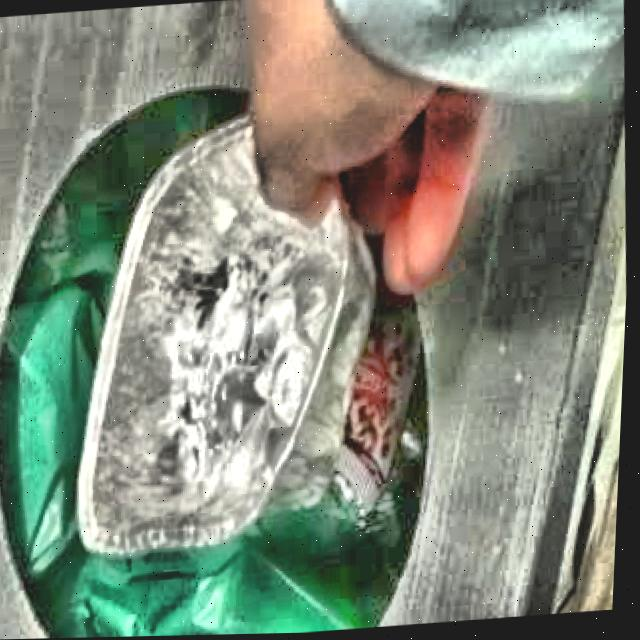metal: (83, 116, 377, 557)
